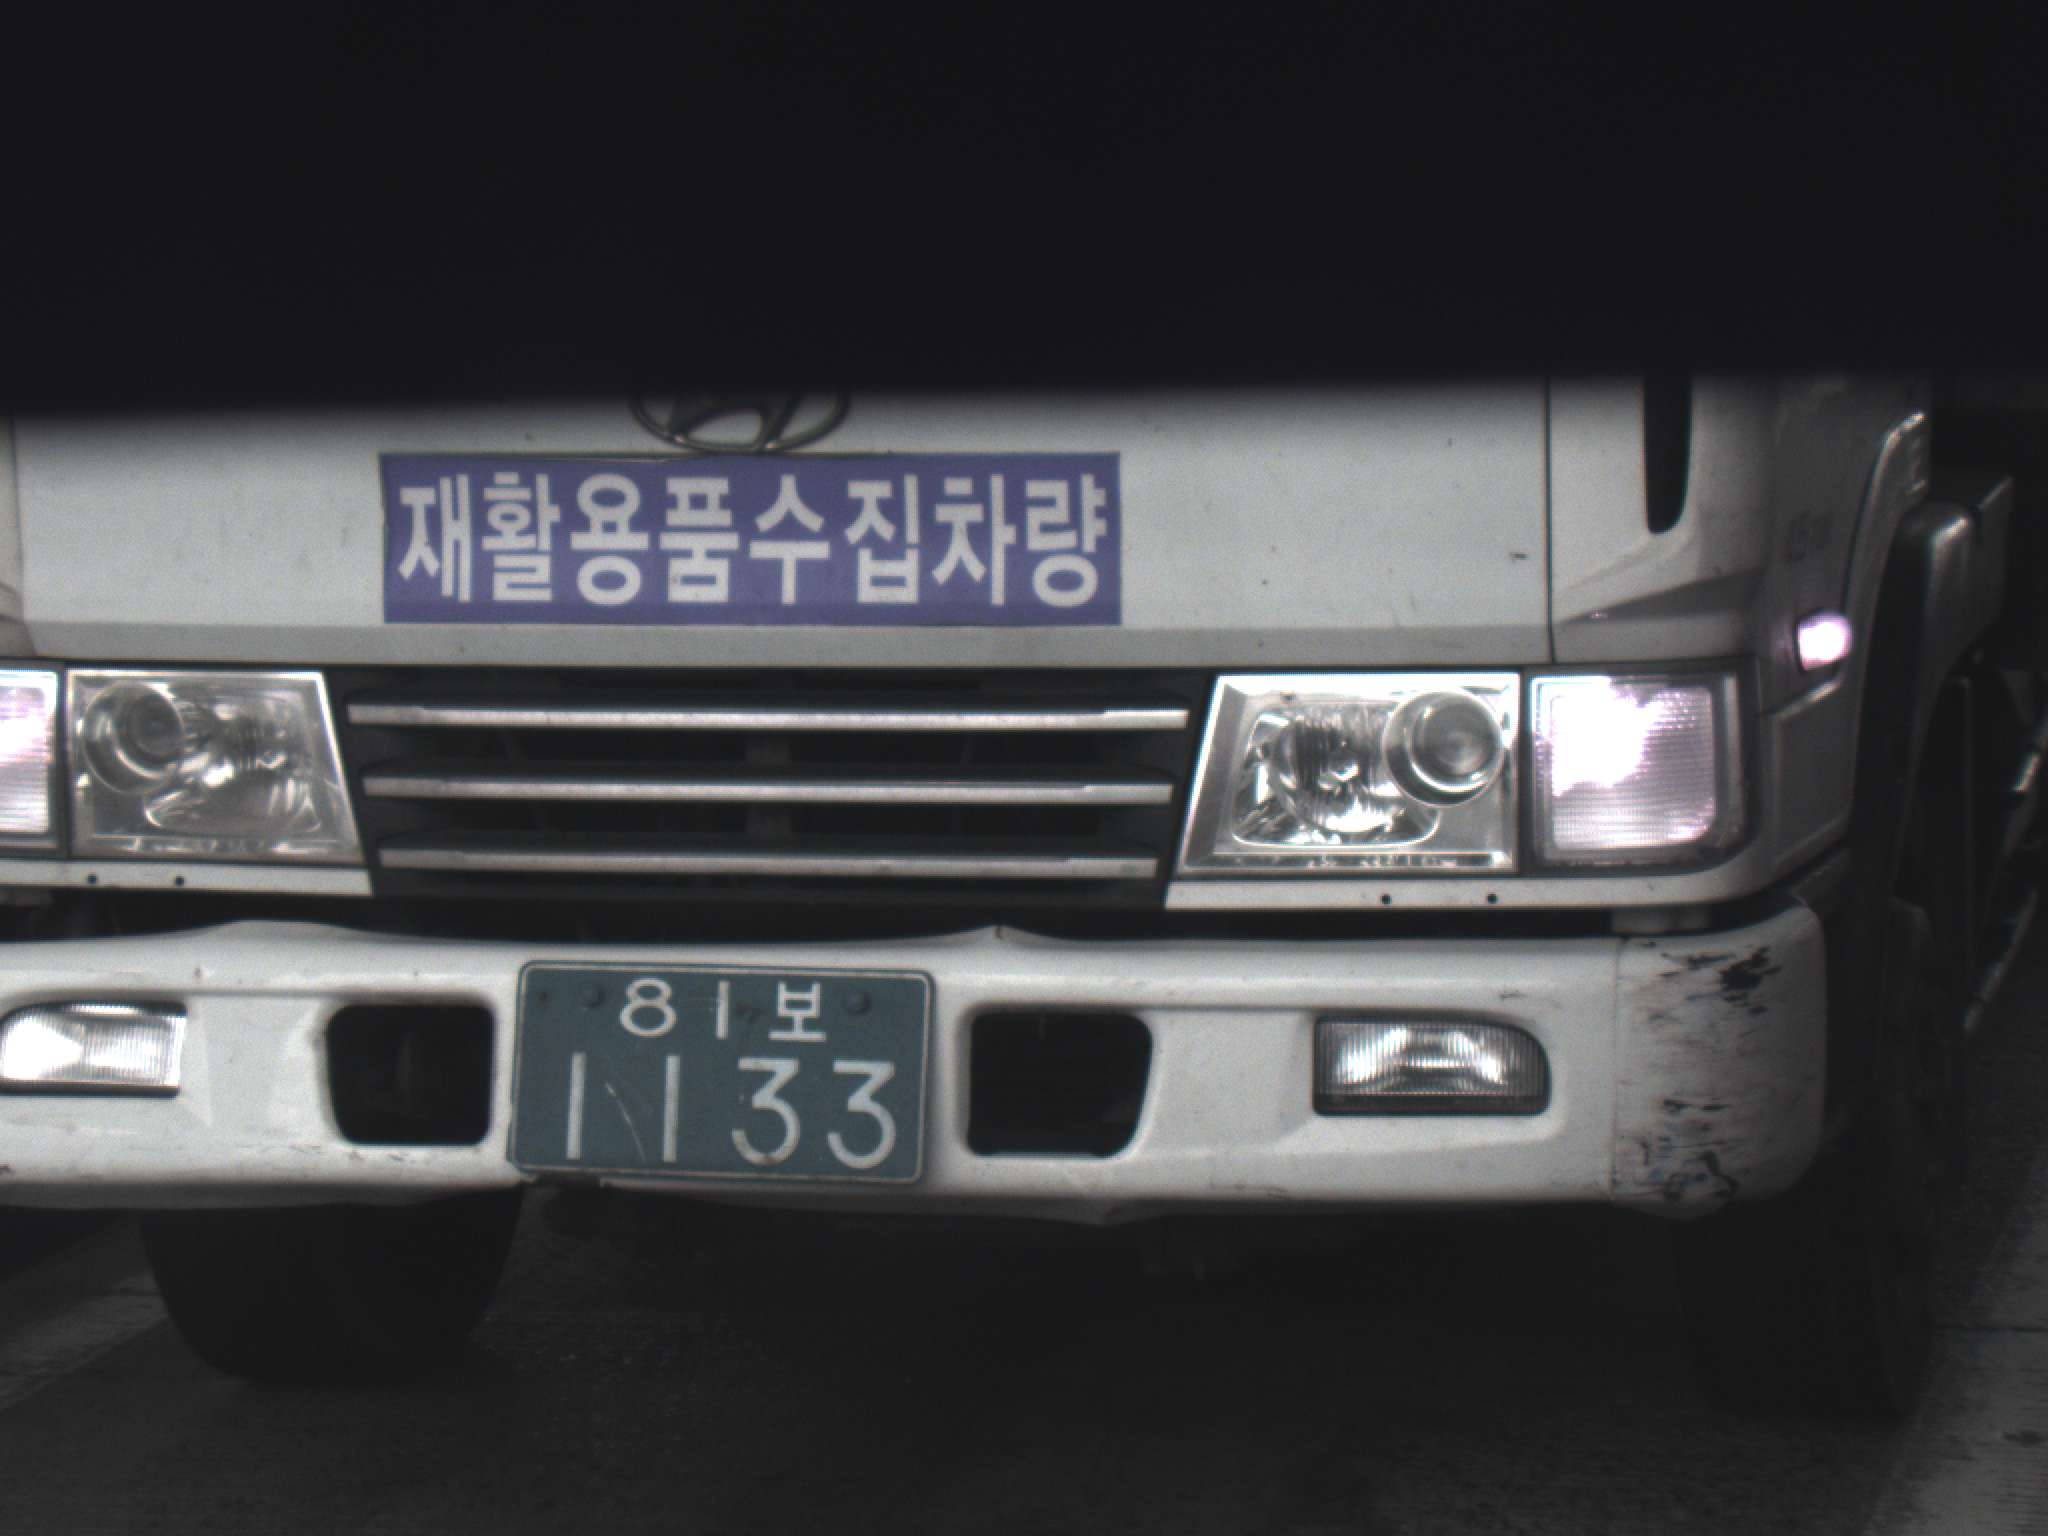car: (1, 413, 2046, 1426)
plate: (508, 964, 936, 1187)
